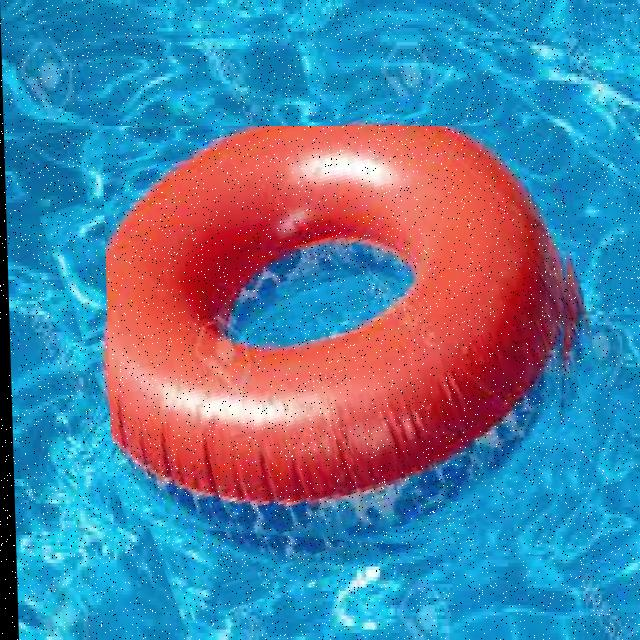litter: (104, 126, 566, 538)
